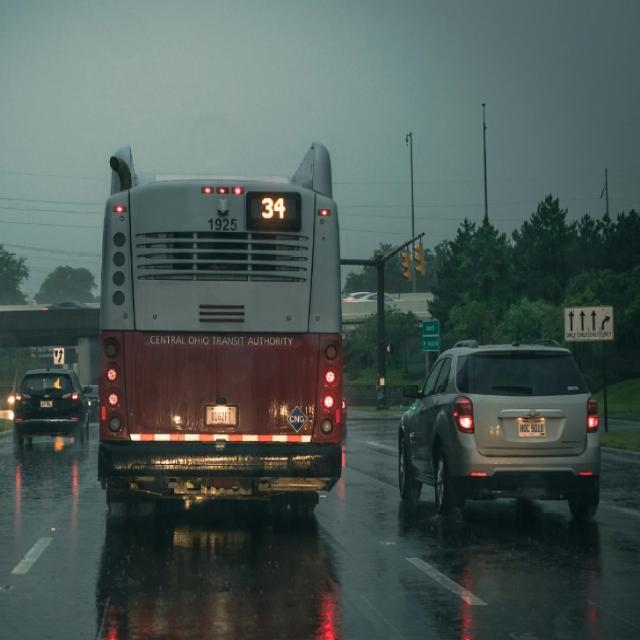bus: (97, 144, 345, 523)
car: (397, 338, 603, 522), (12, 368, 92, 450)
